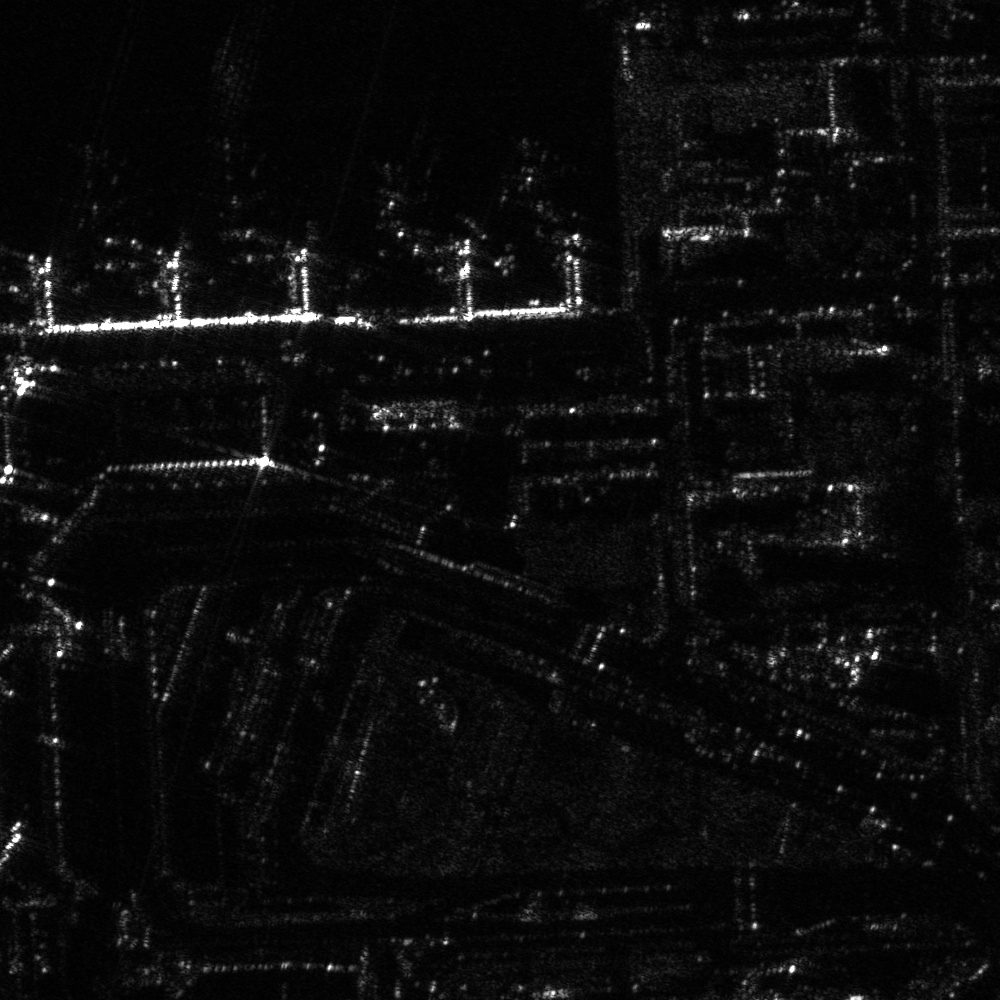A220: (45, 144, 159, 244), (487, 132, 582, 223)
Boeing787: (191, 138, 281, 245), (353, 163, 435, 239)
